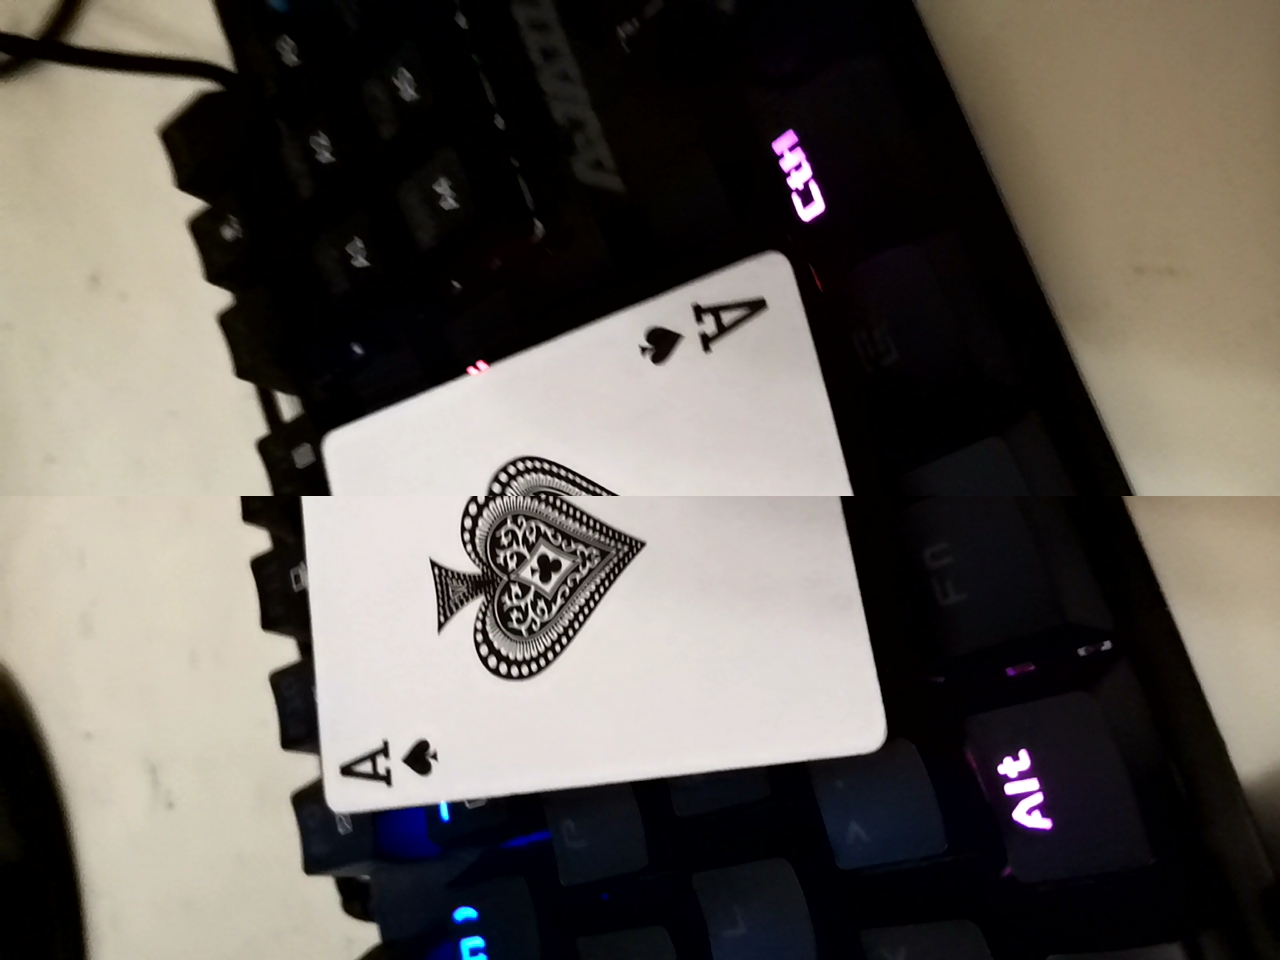ht a: (295, 248, 903, 785)
